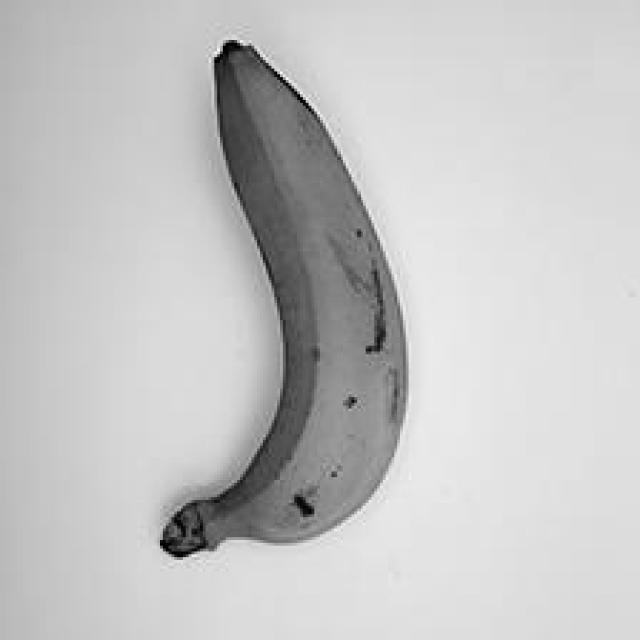Raw: (117, 26, 435, 581)
